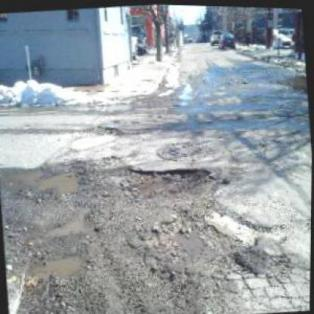Hueco: (144, 200, 248, 281), (124, 154, 220, 202), (8, 159, 94, 202), (25, 246, 90, 285), (43, 200, 100, 239), (80, 124, 124, 140)
